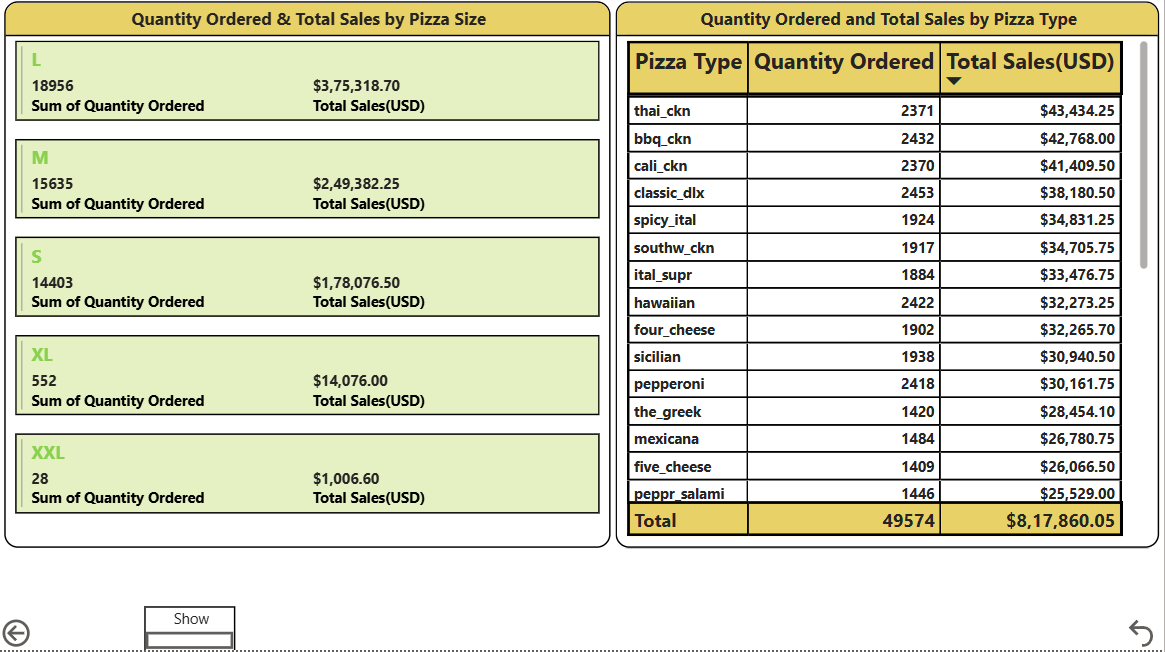

This screenshot's page, from the dashboard's own definition file:
{"tool":"powerbi","page":{"name":"Pizza Size & Pizza Type Analysis","canvas":[1280,720],"ordinal":2},"visuals":[{"type":"multiRowCard","title":"Quantity Ordered & Total Sales by Pizza Size","fields":{"Values":["pizzas.size","Sum(order_details.quantity)","pizzas.total_sales(USD)"]},"box":[6.9,6.9,665.5,599.7],"z":0},{"type":"tableEx","title":"Quantity Ordered and Total Sales by Pizza Type","fields":{"Values":["pizza_types.pizza_type_id","Sum(order_details.quantity)","pizzas.total_sales(USD)"]},"box":[677.9,6.9,596.9,599.7],"z":1000},{"type":"actionButton","box":[0,680.6,43.9,39.8],"z":2000},{"type":"actionButton","title":"Show","box":[160.5,671,100.2,49.4],"z":4000},{"type":"actionButton","box":[1235,680.6,45.3,39.8],"z":6000}]}

Visuals, with their boxes in screenshot pixels (x1, y1, x2, y2), scaled from the page's 1280x720 canvas onto the 1165x652 screenshot:
"Quantity Ordered & Total Sales by Pizza Size" multiRowCard: 6/6/612/549
"Quantity Ordered and Total Sales by Pizza Type" tableEx: 617/6/1160/549
actionButton: 0/616/40/651
"Show" actionButton: 146/608/237/651
actionButton: 1124/616/1164/651
